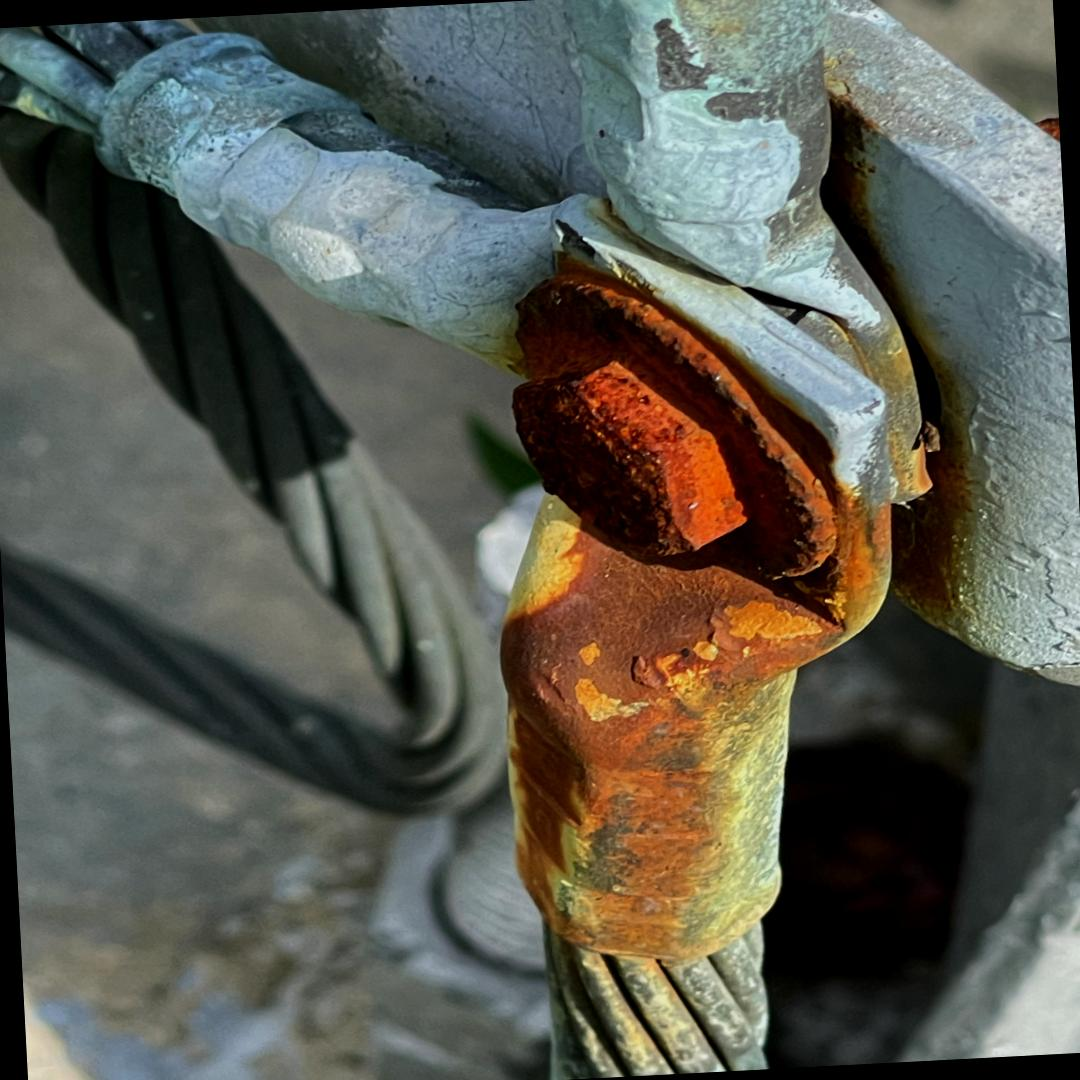Metal: (0, 0, 1080, 1080)
Metal corroido: (498, 270, 890, 968), (818, 96, 988, 641)
